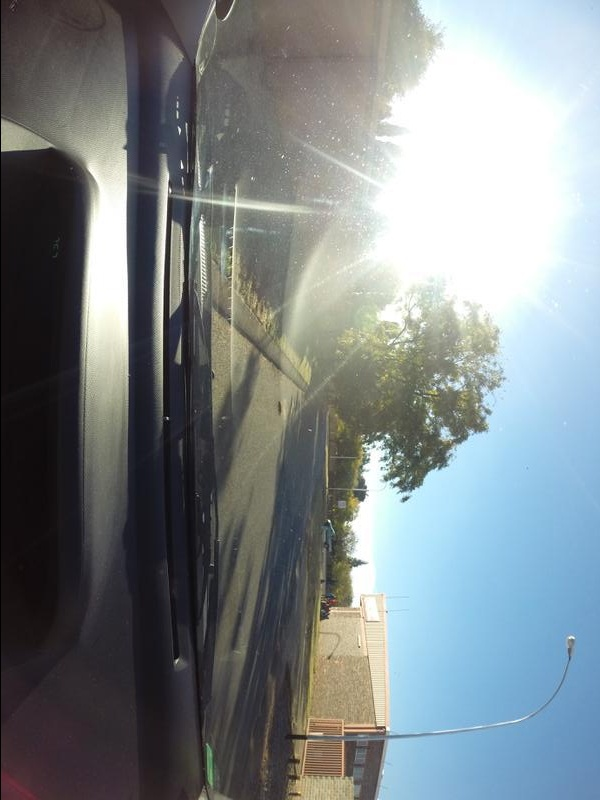pothole: (273, 392, 287, 437)
